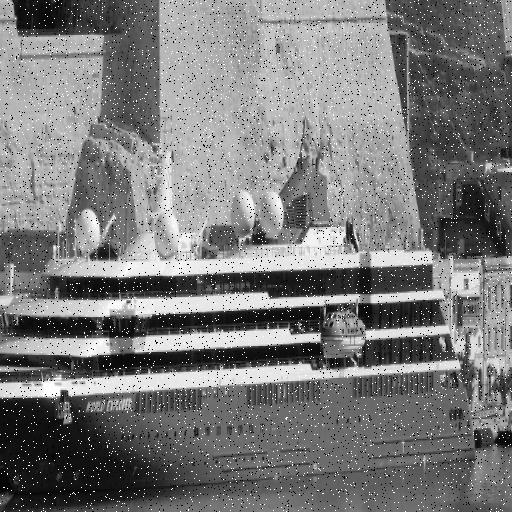cruises: (1, 144, 480, 503)
